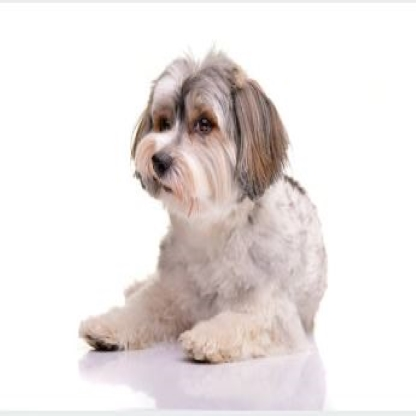maltese: (84, 46, 329, 364)
